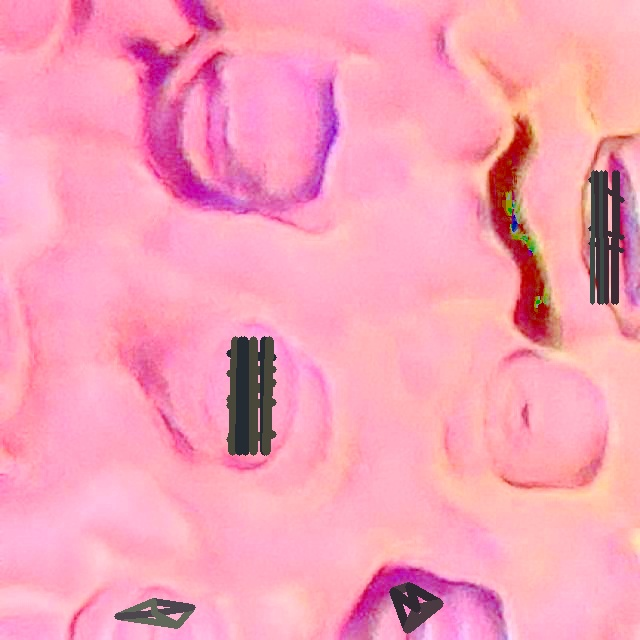close: (226, 336, 276, 455), (114, 598, 195, 628)
open: (589, 171, 624, 303), (389, 582, 443, 633)
